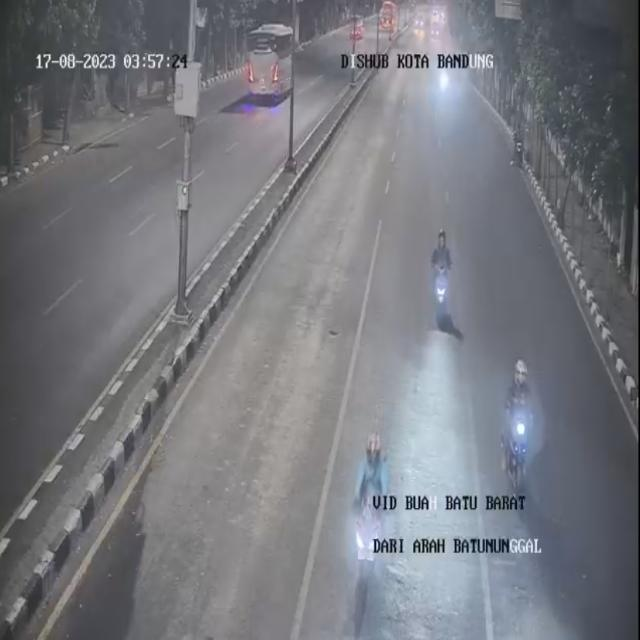motorcycle: (330, 422, 411, 624), (484, 352, 556, 520), (422, 231, 469, 339)
